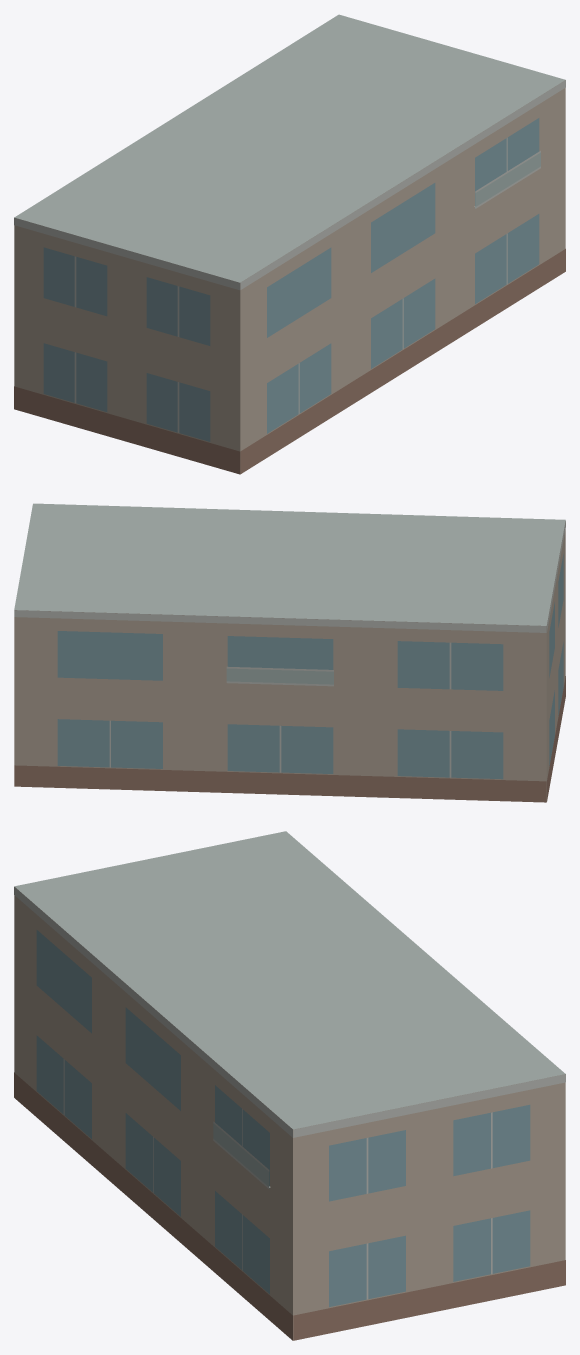
The model's file is survey-upis-32705818.glb.
3 views of the same model, one above another, from view 1: azimuth 30°, elevation 25°; view 2: azimuth 150°, elevation 25°; view 3: azimuth 270°, elevation 25° (orthographic). The views are drawn at different scales.
Parts seen in each view (by area): view 1: survey-upis-32705818.tmp; view 2: survey-upis-32705818.tmp; view 3: survey-upis-32705818.tmp.
Part boxes in pixels (x1,y1,x2,y2): survey-upis-32705818.tmp: (14,14,565,474); survey-upis-32705818.tmp: (14,503,565,802); survey-upis-32705818.tmp: (14,831,565,1340).
Size of the model in its own units: 18.49 by 6.1 by 14.44.
